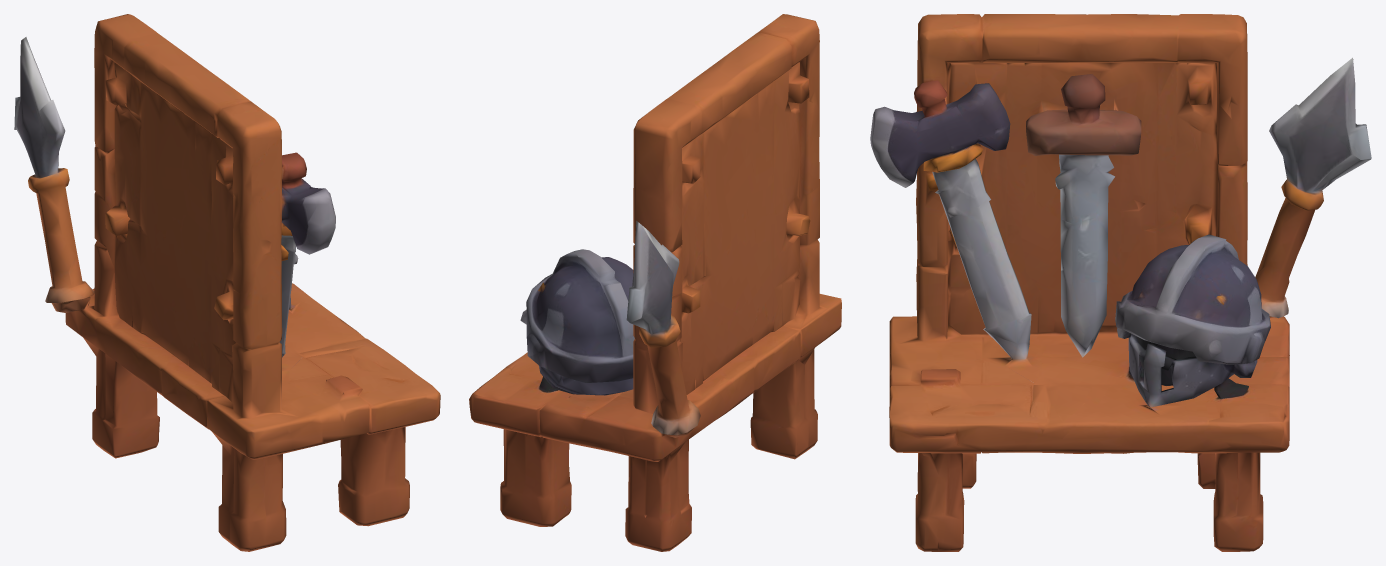
Rendered from weapon_display-2yAXCwIG.glb.
The picture shows the model from 3 angles, left to right: view 1: azimuth 30°, elevation 25°; view 2: azimuth 150°, elevation 25°; view 3: azimuth 270°, elevation 25°; orthographic projection. The views are drawn at different scales.
Visible parts, largest first — view 1: tripo_node_7b17d6e3-4dcf-4ff4-a9bf-9b6c1f256e28; view 2: tripo_node_7b17d6e3-4dcf-4ff4-a9bf-9b6c1f256e28; view 3: tripo_node_7b17d6e3-4dcf-4ff4-a9bf-9b6c1f256e28.
Part boxes in pixels (bbox=[...]): tripo_node_7b17d6e3-4dcf-4ff4-a9bf-9b6c1f256e28: bbox=[14, 14, 440, 551]; tripo_node_7b17d6e3-4dcf-4ff4-a9bf-9b6c1f256e28: bbox=[469, 14, 841, 551]; tripo_node_7b17d6e3-4dcf-4ff4-a9bf-9b6c1f256e28: bbox=[870, 14, 1371, 551].
Size of the model in its own units: 0.5433 by 1 by 0.9975.
1 material, 1 textured.
